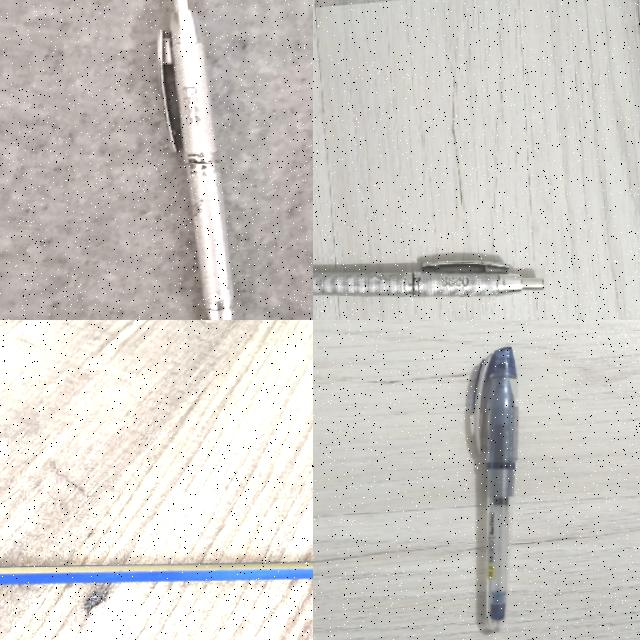pen: (472, 347, 517, 631), (0, 562, 312, 585)
signature pen: (157, 0, 232, 319), (313, 261, 542, 297)
